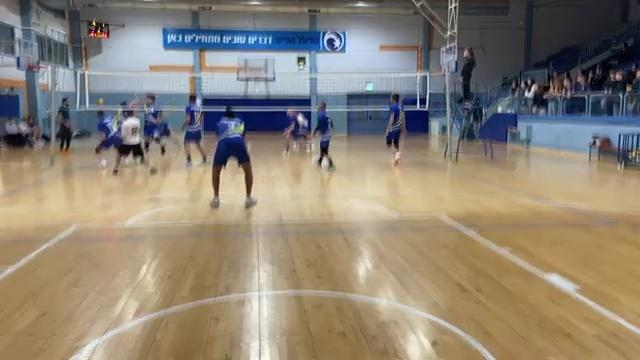ball: (93, 94, 108, 108)
